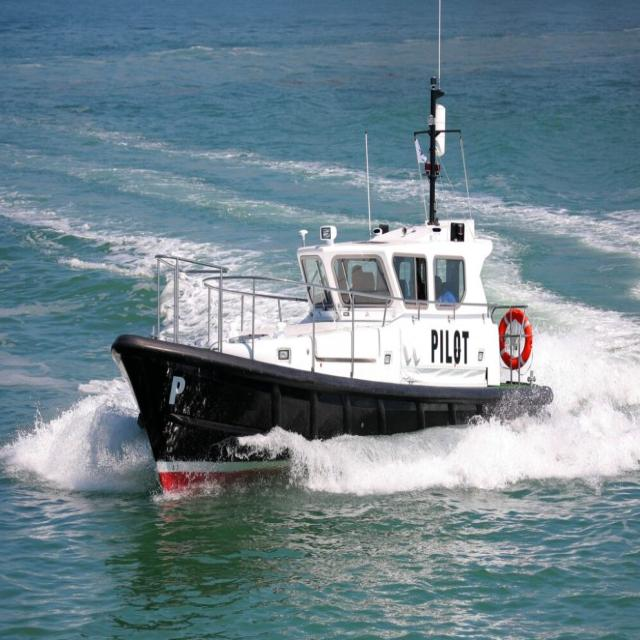houseboat: (105, 183, 543, 492)
